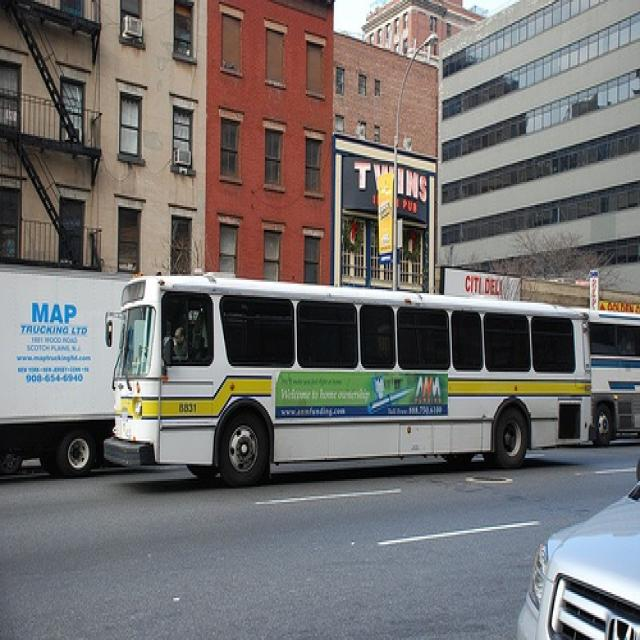bus: (103, 274, 592, 485), (588, 312, 638, 444)
car: (516, 452, 639, 638)
